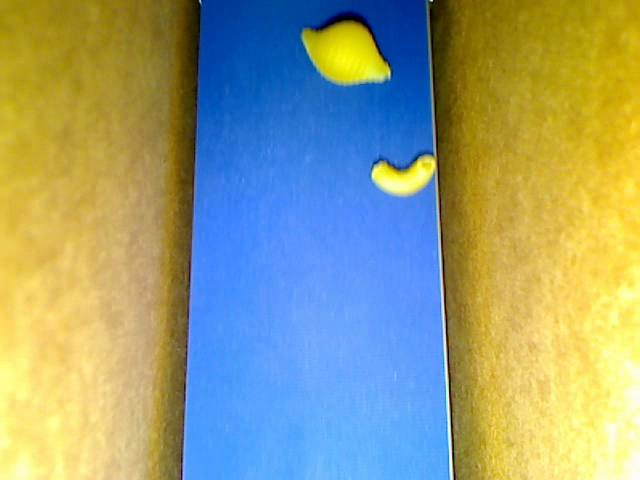elbow: (369, 153, 436, 197)
shell: (302, 21, 392, 85)
